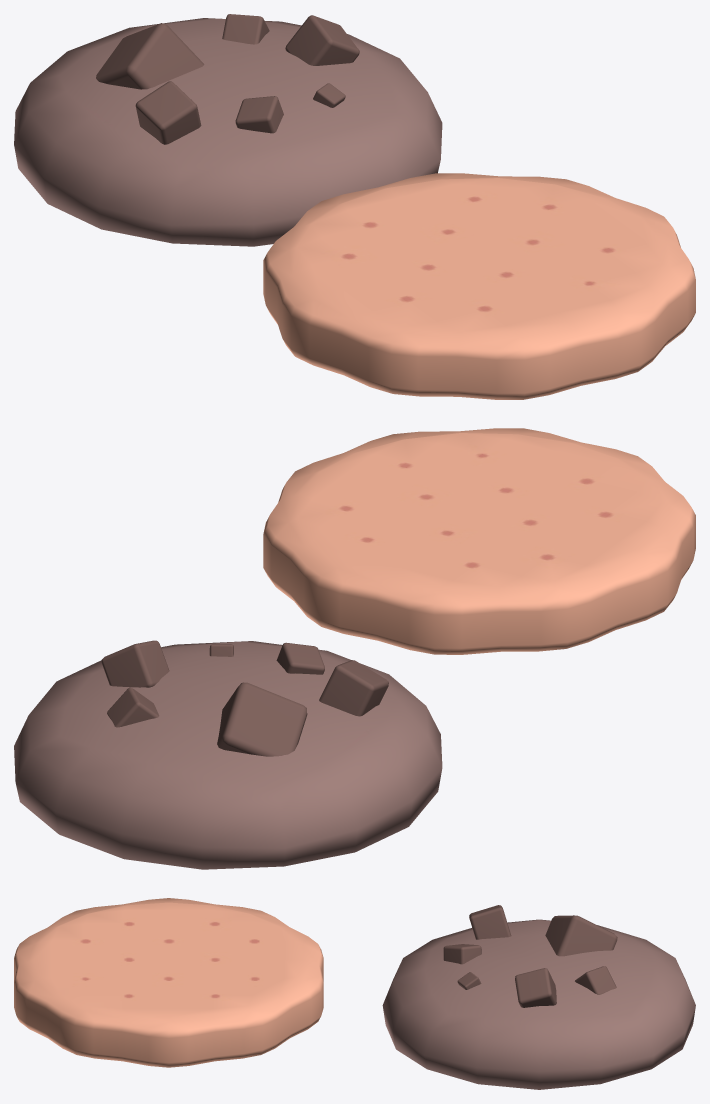
The model's file is Cookie.fbx.
The picture shows the model from 3 angles, top to bottom: view 1: azimuth 30°, elevation 25°; view 2: azimuth 150°, elevation 25°; view 3: azimuth 270°, elevation 25°; orthographic projection. The views are drawn at different scales.
Parts seen in each view (by area): view 1: Bisket, pCube8; view 2: pCube8, Bisket; view 3: pCube8, Bisket.
Boxes of the visible parts, box(x1,y1,x2,y2) form: Bisket: box(263, 173, 695, 399); pCube8: box(14, 14, 442, 246); pCube8: box(14, 640, 442, 869); Bisket: box(263, 428, 695, 654); pCube8: box(382, 905, 695, 1089); Bisket: box(14, 898, 323, 1067).
Size of the model in its own units: 211 by 76.87 by 449.
